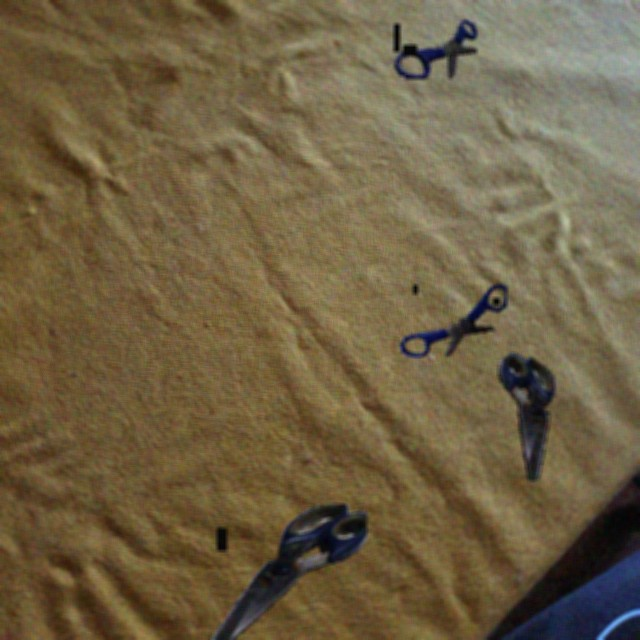scissors: (199, 504, 367, 640), (400, 283, 507, 357), (498, 353, 555, 481), (394, 20, 477, 79)
